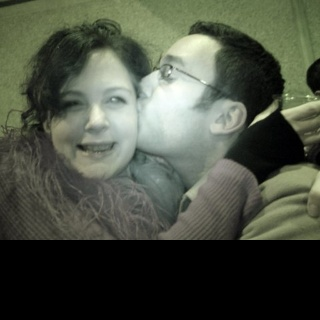without_mask: (138, 33, 246, 160), (42, 45, 138, 182)
